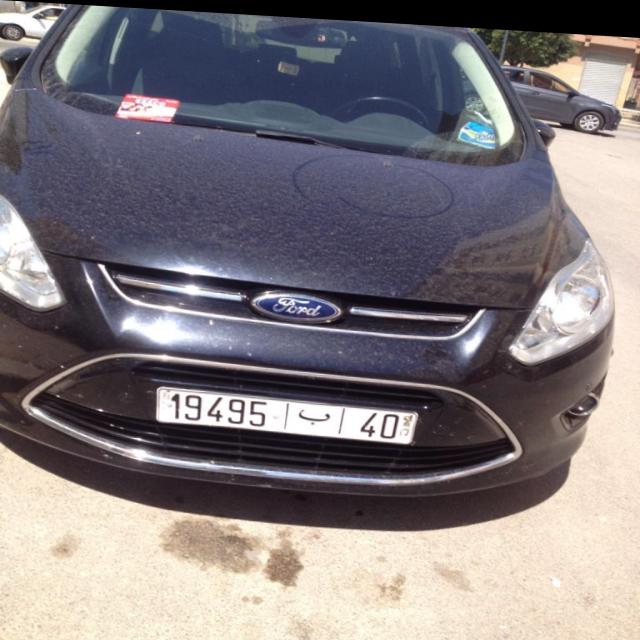License-Plate: (157, 385, 418, 439)
